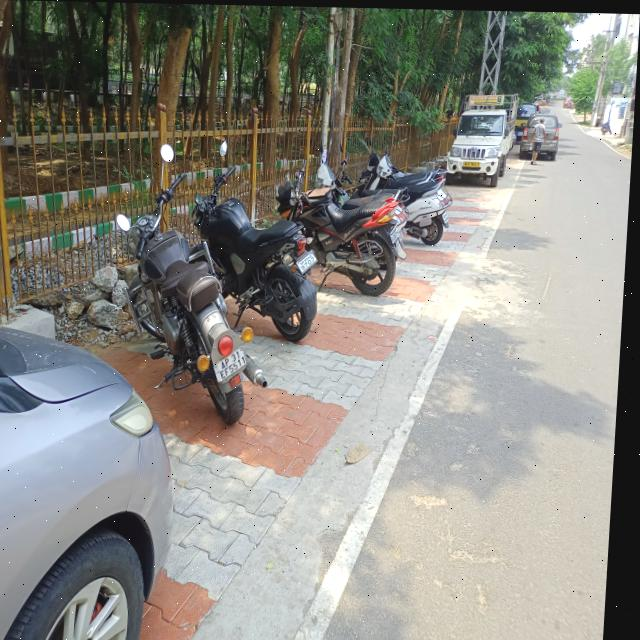bike: (109, 196, 285, 424), (191, 186, 342, 345), (275, 174, 417, 290)
car: (441, 106, 522, 180), (525, 109, 564, 158)
